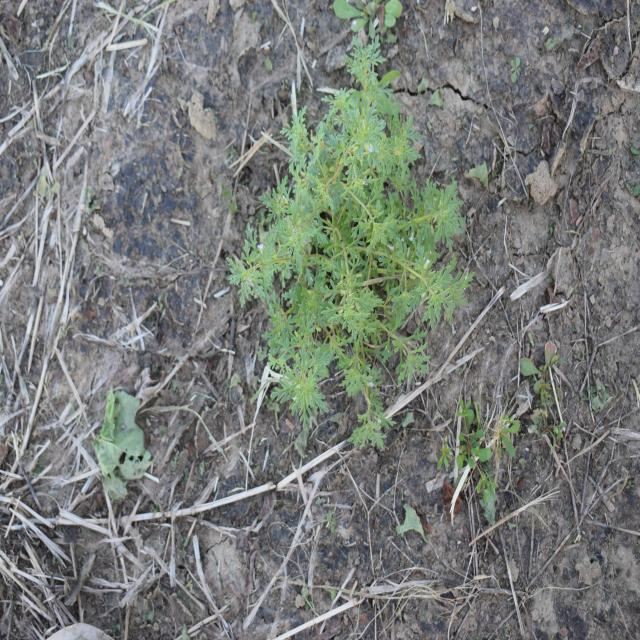Carpetweed: (436, 398, 522, 503), (516, 338, 569, 460)
Ragweed: (225, 34, 477, 455)
